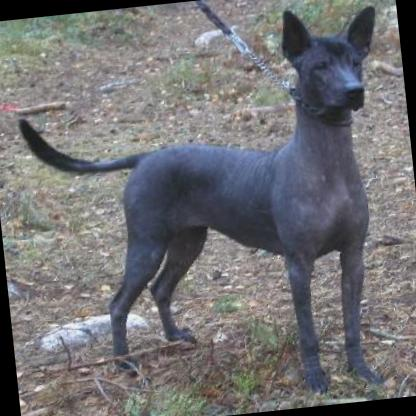Mexican_hairless: (5, 0, 412, 415)
